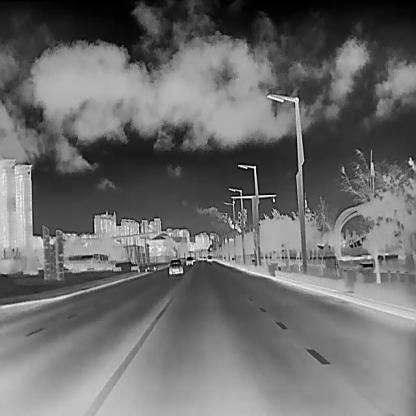car: (68, 253, 105, 272), (168, 258, 183, 274), (185, 255, 193, 266), (205, 254, 212, 261), (202, 255, 206, 259)
